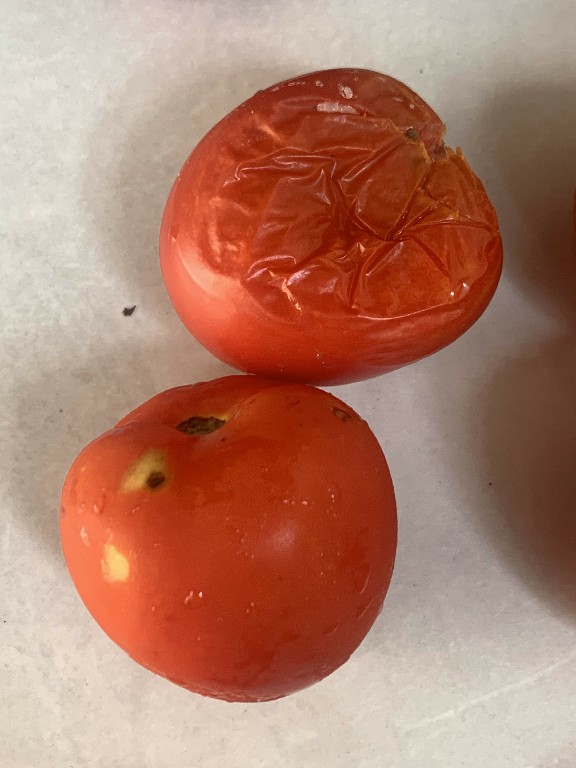NG: (130, 52, 516, 395), (40, 370, 401, 714)
